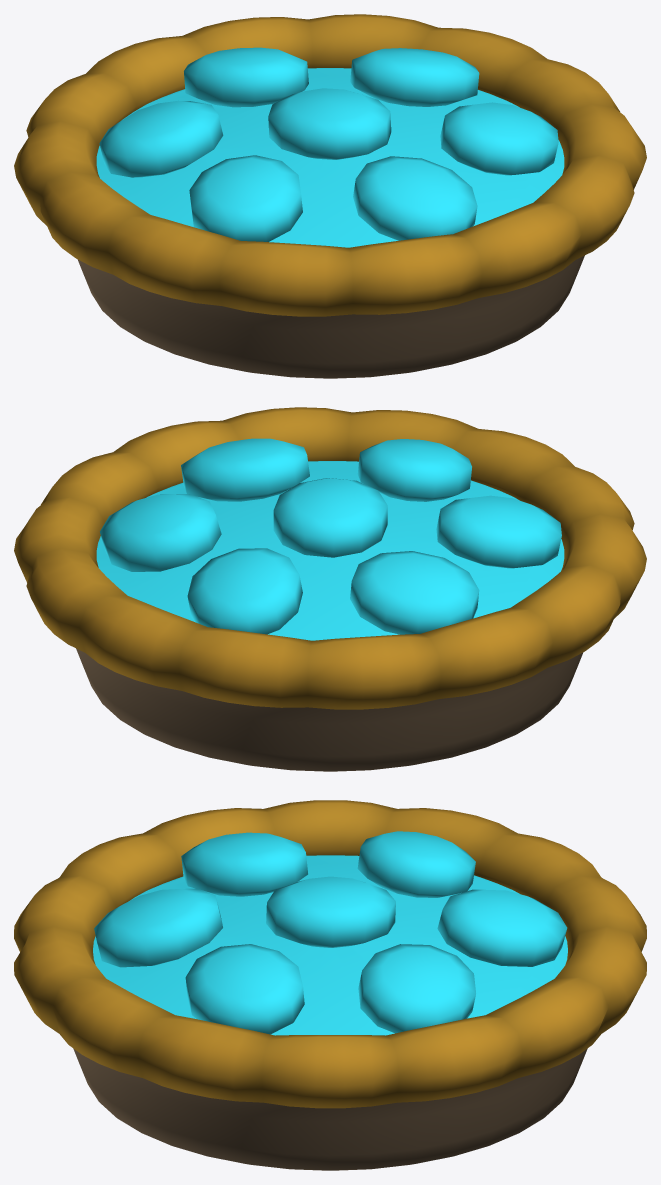
Rendered from Holo_Crop_Pie.glb.
3 views of the same model, one above another, from view 1: azimuth 30°, elevation 25°; view 2: azimuth 150°, elevation 25°; view 3: azimuth 270°, elevation 25° (orthographic).
Visible parts, largest first — view 1: Holo_Crop_Pie_Crust, Holo_Crop_Pie_Fill; view 2: Holo_Crop_Pie_Crust, Holo_Crop_Pie_Fill; view 3: Holo_Crop_Pie_Crust, Holo_Crop_Pie_Fill.
Part boxes in pixels (left/top/right/bottom): Holo_Crop_Pie_Crust: left=14, top=14, right=646, bottom=378; Holo_Crop_Pie_Fill: left=96, top=47, right=564, bottom=247; Holo_Crop_Pie_Crust: left=14, top=407, right=646, bottom=771; Holo_Crop_Pie_Fill: left=96, top=438, right=564, bottom=640; Holo_Crop_Pie_Crust: left=14, top=800, right=646, bottom=1170; Holo_Crop_Pie_Fill: left=93, top=831, right=567, bottom=1035.
Bounding box in the file's own units: 0.7243 × 0.2279 × 0.7139.
